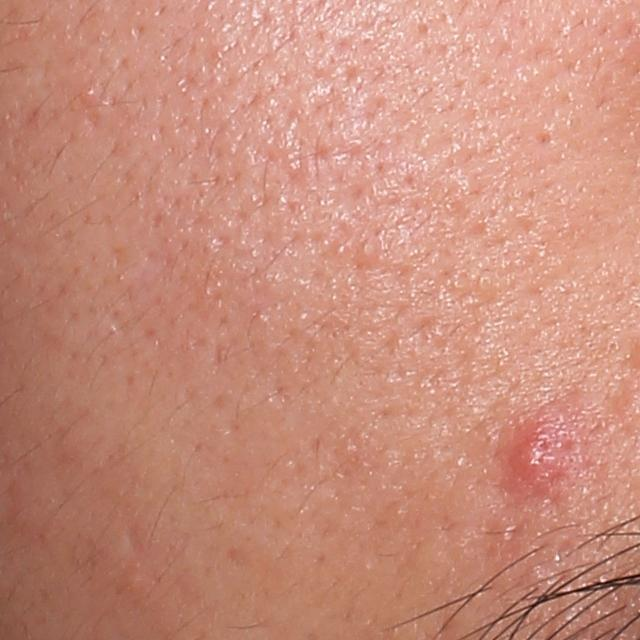atrophic_scar: (114, 522, 150, 570)
comedo: (356, 233, 384, 266)
papule: (500, 396, 593, 501)
